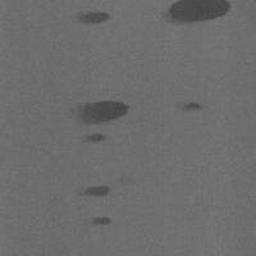Oil spot: (166, 0, 231, 23), (78, 101, 130, 125), (79, 12, 109, 24), (84, 186, 110, 196), (86, 134, 105, 142), (93, 217, 111, 225), (184, 103, 201, 110)
